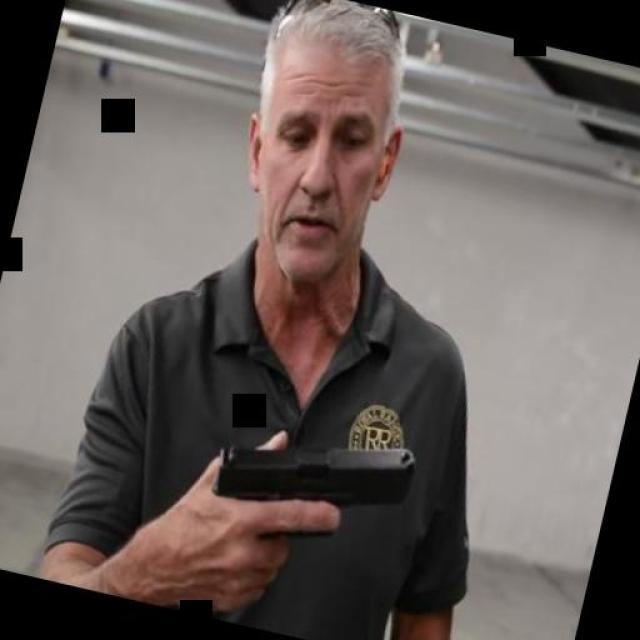gun: (174, 402, 422, 640)
